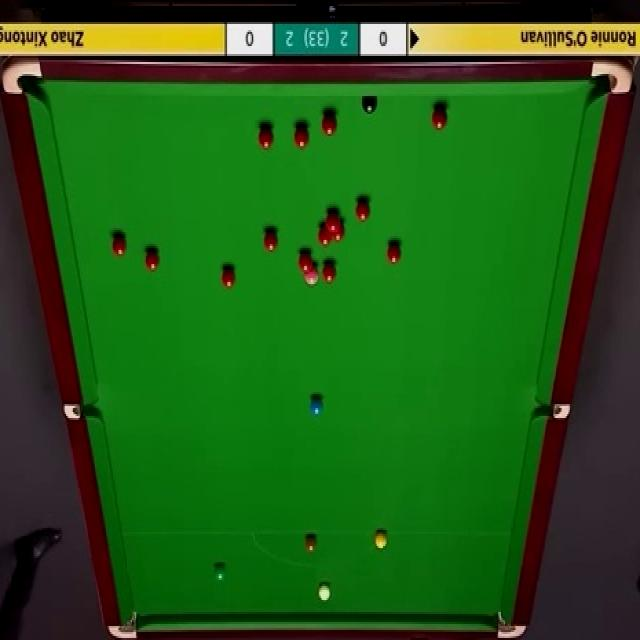black-ball: (362, 98, 378, 114)
blue-ball: (311, 396, 324, 417)
brown-ball: (304, 534, 318, 553)
green-ball: (214, 565, 225, 584)
pink-ball: (304, 263, 319, 287)
red-ball: (144, 248, 162, 273), (293, 123, 310, 149), (110, 230, 127, 256), (386, 242, 403, 267), (431, 107, 448, 132), (325, 206, 340, 234), (356, 198, 372, 224), (322, 112, 338, 138), (317, 224, 334, 248), (322, 259, 336, 284), (264, 230, 278, 254), (258, 128, 274, 149), (220, 268, 236, 288), (331, 219, 344, 242), (298, 252, 312, 270)
white-ball: (318, 584, 331, 602)
yellow-ball: (374, 530, 390, 550)
